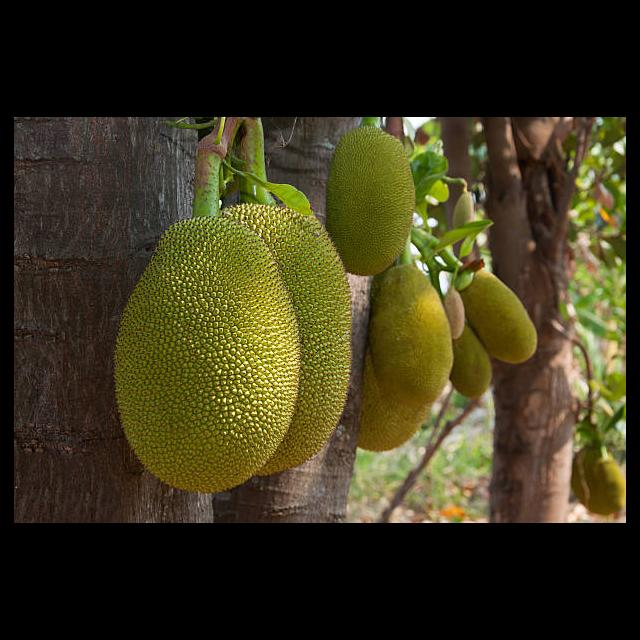mit: (108, 214, 305, 495), (217, 203, 353, 482), (326, 125, 417, 276), (367, 269, 455, 408), (456, 264, 545, 366), (345, 356, 419, 450), (452, 329, 496, 404)
